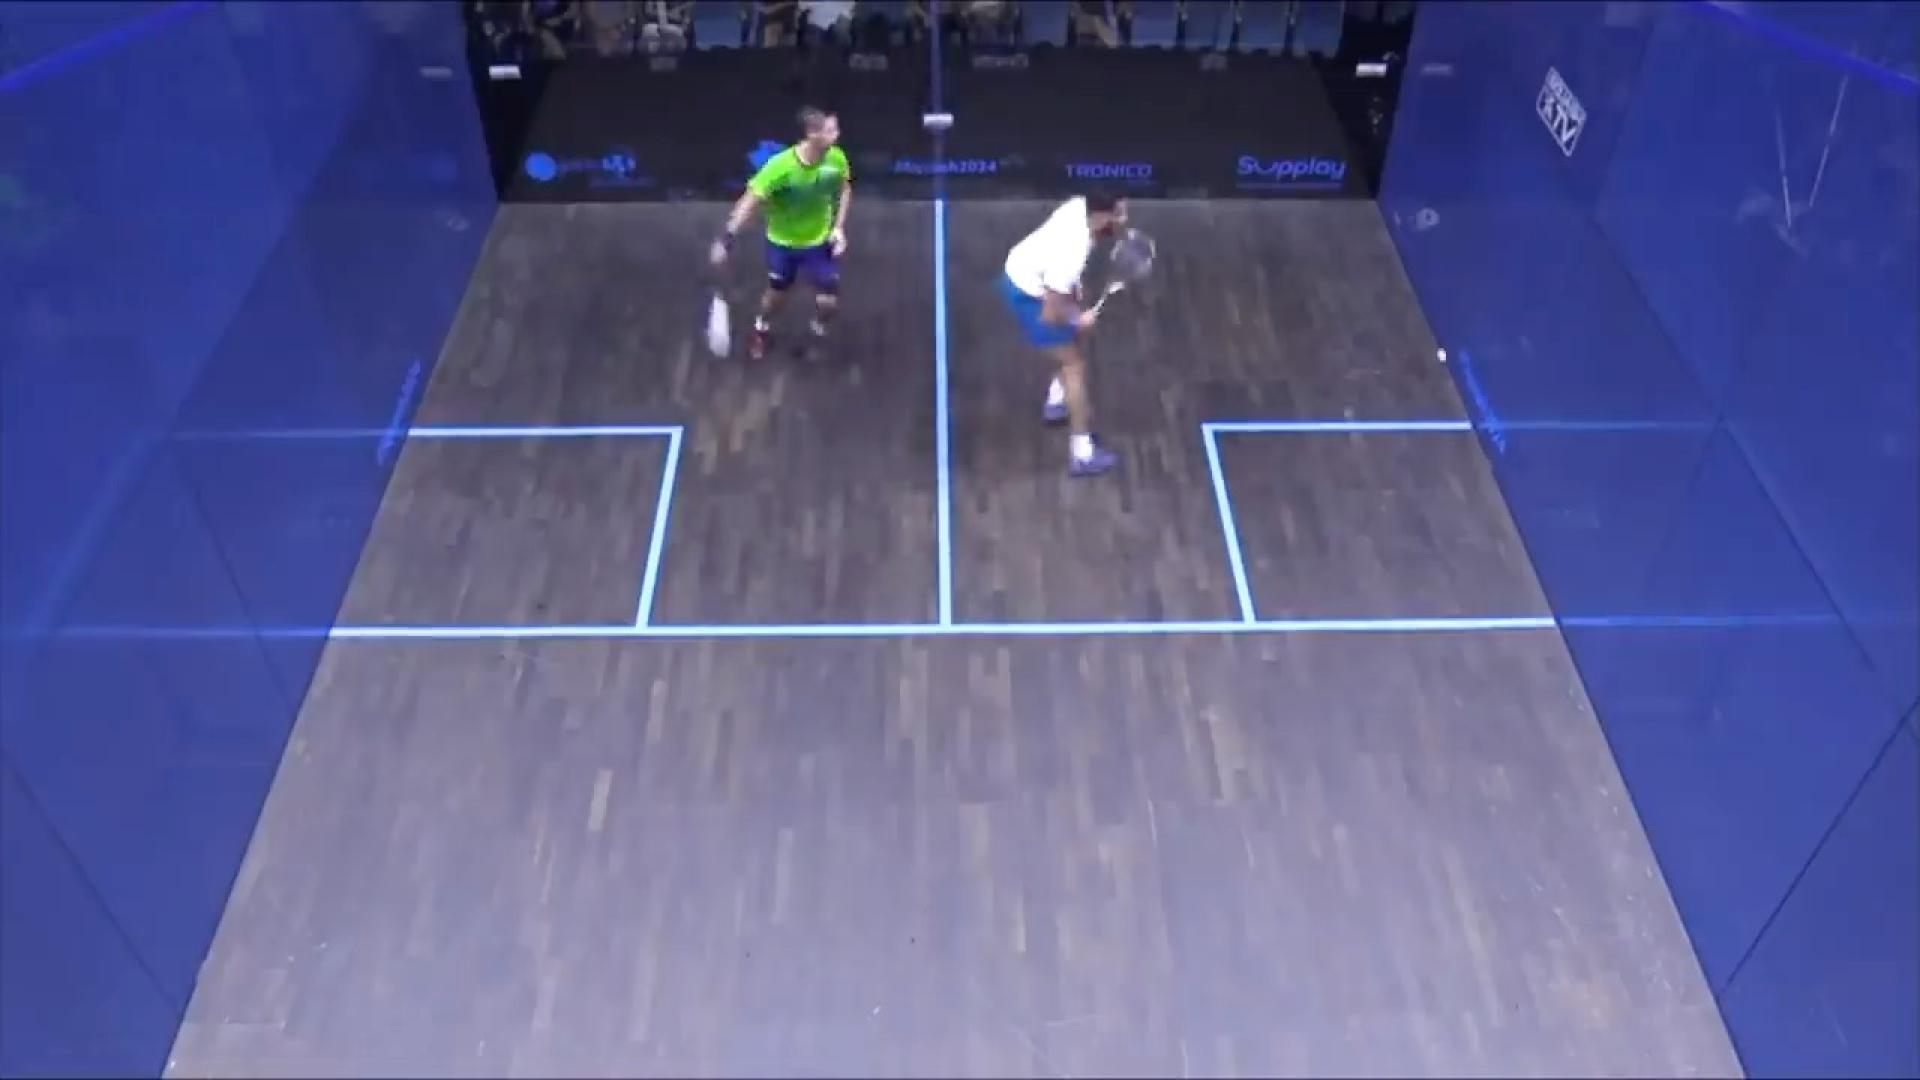Squash-Ball: (1420, 338, 1468, 380)
